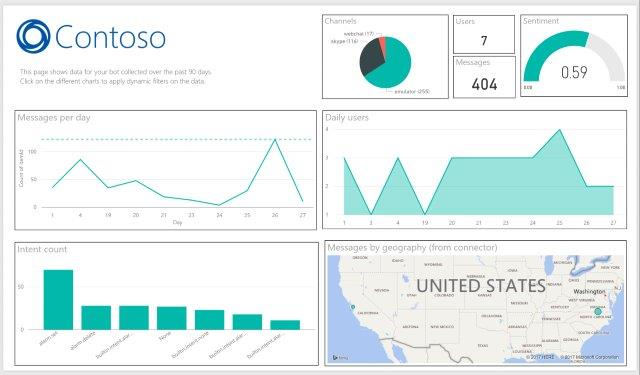

The dashboard page shown, as its layout file describes it:
{"tool":"powerbi","page":{"name":"Overview","canvas":[1280,720],"ordinal":0},"visuals":[{"type":"lineChart","fields":{"Y":["Count(Bot Events.itemId)"],"Category":["Bot Events.timestamp.Variation.Date Hierarchy.Year","Bot Events.timestamp.Variation.Date Hierarchy.Quarter","Bot Events.timestamp.Variation.Date Hierarchy.Month","Bot Events.timestamp.Variation.Date Hierarchy.Day"]},"box":[23.4,193.4,610.6,243.3],"z":0},{"type":"pieChart","fields":{"Category":["Bot Events.customDimensions.channel"],"Y":["CountNonNull(Bot Events.itemId)"]},"box":[643.8,0,256.9,171],"z":1},{"type":"columnChart","fields":{"Category":["Bot Events.customDimensions.intent"],"Y":["CountNonNull(Bot Events.itemId)"]},"box":[23.4,460.1,614.5,250.1],"z":3},{"type":"map","fields":{"Category":["Bot Events.client_City"],"Size":["CountNonNull(Bot Events.itemId)"]},"box":[649.7,456.2,610.6,255],"z":4},{"type":"gauge","fields":{"Y":["Avg(Bot Events.customDimensions.score)"]},"box":[1046.2,0,217,165.3],"z":5},{"type":"image","box":[21.5,0,312.6,87.9],"z":6},{"type":"card","fields":{"Values":["Count(Bot Events.customDimensions.userId)"]},"box":[909.3,1.3,125.3,77.5],"z":7},{"type":"card","fields":{"Values":["Count(Bot Events.itemId)"]},"box":[909.4,84.1,126.7,85.3],"z":8},{"type":"areaChart","fields":{"Category":["Bot Events.timestamp.Variation.Date Hierarchy.Year","Bot Events.timestamp.Variation.Date Hierarchy.Quarter","Bot Events.timestamp.Variation.Date Hierarchy.Month","Bot Events.timestamp.Variation.Date Hierarchy.Day"],"Y":["Count(Bot Events.customDimensions.userId)"]},"box":[644.8,193.4,616.4,240.3],"z":9},{"type":"textbox","box":[30.2,100.4,468.6,67.2],"z":10}]}

Visuals, with their boxes in screenshot pixels (x1, y1, x2, y2):
lineChart - Count(Bot Events.itemId) x Bot Events.timestamp.Variation.Date Hierarchy.Year: select_region(15, 109, 316, 229)
pieChart - Bot Events.customDimensions.channel x CountNonNull(Bot Events.itemId): select_region(321, 13, 447, 98)
columnChart - Bot Events.customDimensions.intent x CountNonNull(Bot Events.itemId): select_region(15, 240, 318, 364)
map - Bot Events.client_City x CountNonNull(Bot Events.itemId): select_region(324, 238, 625, 364)
gauge - Avg(Bot Events.customDimensions.score): select_region(519, 13, 626, 95)
image: select_region(14, 13, 168, 57)
card - Count(Bot Events.customDimensions.userId): select_region(452, 14, 513, 52)
card - Count(Bot Events.itemId): select_region(452, 55, 514, 97)
areaChart - Bot Events.timestamp.Variation.Date Hierarchy.Year x Bot Events.timestamp.Variation.Date Hierarchy.Quarter: select_region(321, 109, 625, 227)
textbox: select_region(18, 63, 249, 96)
